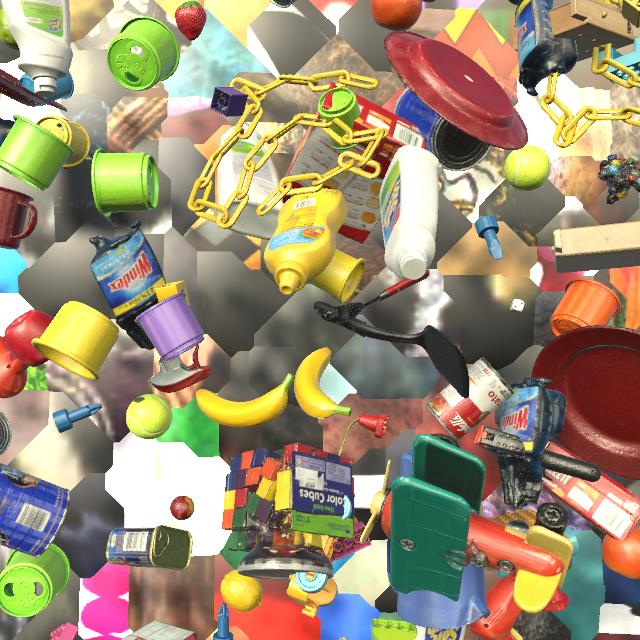ycb_002_master_chef_can: (394, 87, 492, 172), (0, 463, 70, 558), (269, 0, 297, 8)
ycb_003_cracker_box: (282, 82, 426, 244), (542, 442, 640, 541)
ycb_005_tomato_soup_can: (426, 357, 514, 441)
ycb_006_mustard_bottle: (264, 188, 348, 295)
ycb_007_tuna_fish_can: (0, 411, 12, 455)
ycb_008_pudding_box: (121, 620, 198, 640)
ycb_010_potted_meat_can: (106, 525, 193, 571)
ycb_011_banana: (196, 373, 295, 428), (294, 347, 352, 419)
ycb_012_strawberry: (175, 0, 206, 41), (422, 0, 435, 3)
ycb_013_apple: (5, 310, 54, 367)
ycb_014_lemon: (220, 570, 262, 612)
ycb_016_pear: (0, 8, 20, 52)
ycb_017_orange: (602, 527, 640, 579), (371, 0, 423, 32)
